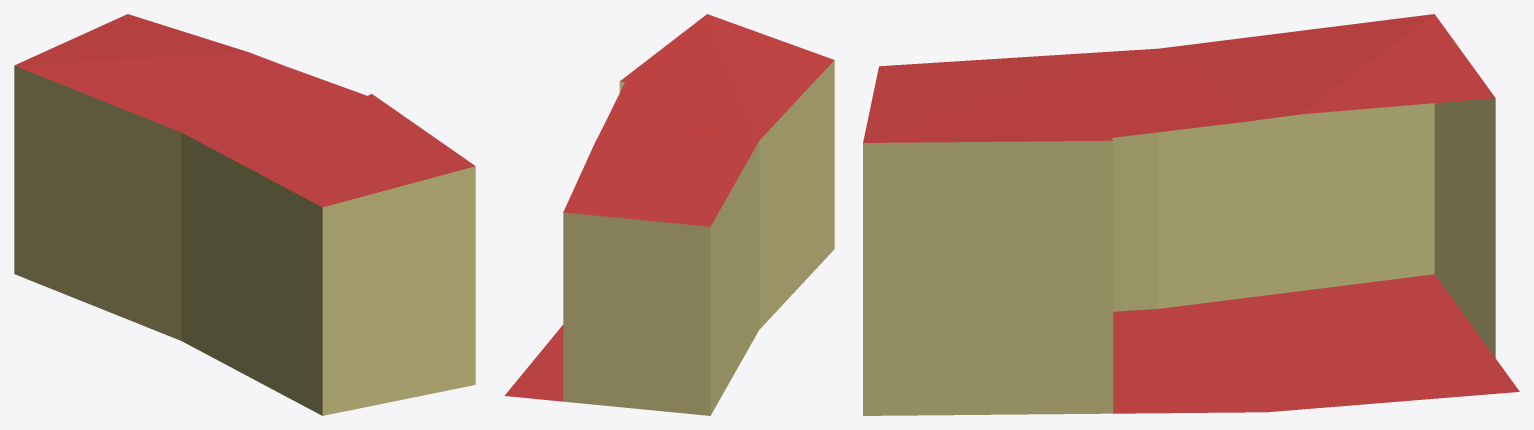
3 views of the same model, side by side, from view 1: azimuth 30°, elevation 25°; view 2: azimuth 150°, elevation 25°; view 3: azimuth 270°, elevation 25° (orthographic). The views are drawn at different scales.
Parts seen in each view (by area): view 1: group_4, group_3; view 2: group_4, group_3, group_5; view 3: group_4, group_3, group_5.
Part boxes in pixels (x1,y1,x2,y2): group_4: (14, 65, 475, 415); group_3: (14, 14, 475, 207); group_4: (563, 60, 834, 415); group_3: (563, 14, 834, 226); group_5: (504, 325, 563, 401); group_4: (863, 98, 1495, 415); group_3: (863, 14, 1495, 142); group_5: (1113, 274, 1519, 413).
Bounding box in the file's own units: 7.43 × 14.55 × 6.67.
